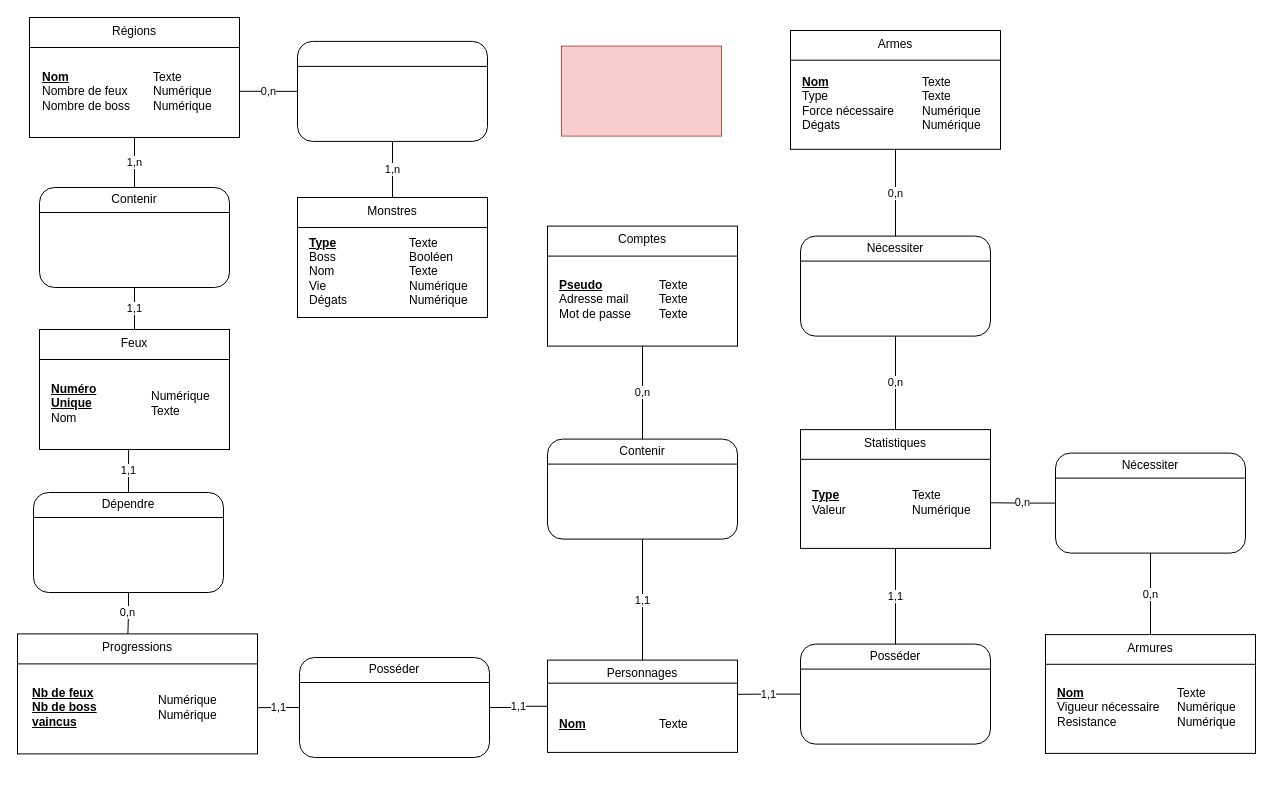
Some shapes in this 1274 by 798 pixel diagram are drawn without their labels. The shapes that lost their labels are listed below. From the top down, each one's centre as x and y in pixels, then its label:
At point (392, 90): "Vivre".
At point (641, 90): "Auteur : Cyprien Jaquier Projet : Darksouls 3 Date : 11.12.2020".
